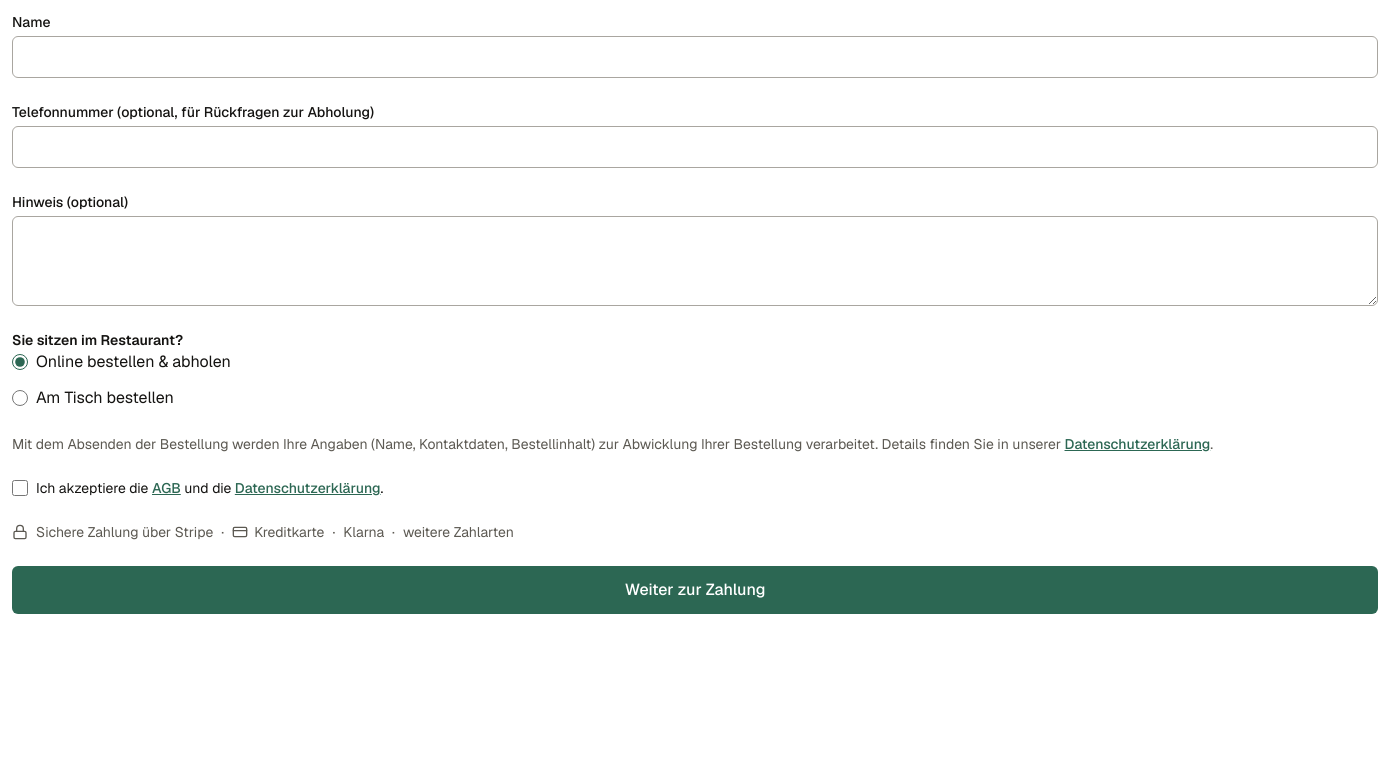
CheckoutForm keeps user input after a validation error › keeps name, phone and note when the server rejects the missing AGB consent
Step 1. Type "Erika Muster" into the field labelled "Name" → (695, 57), box [12,36,1378,78]
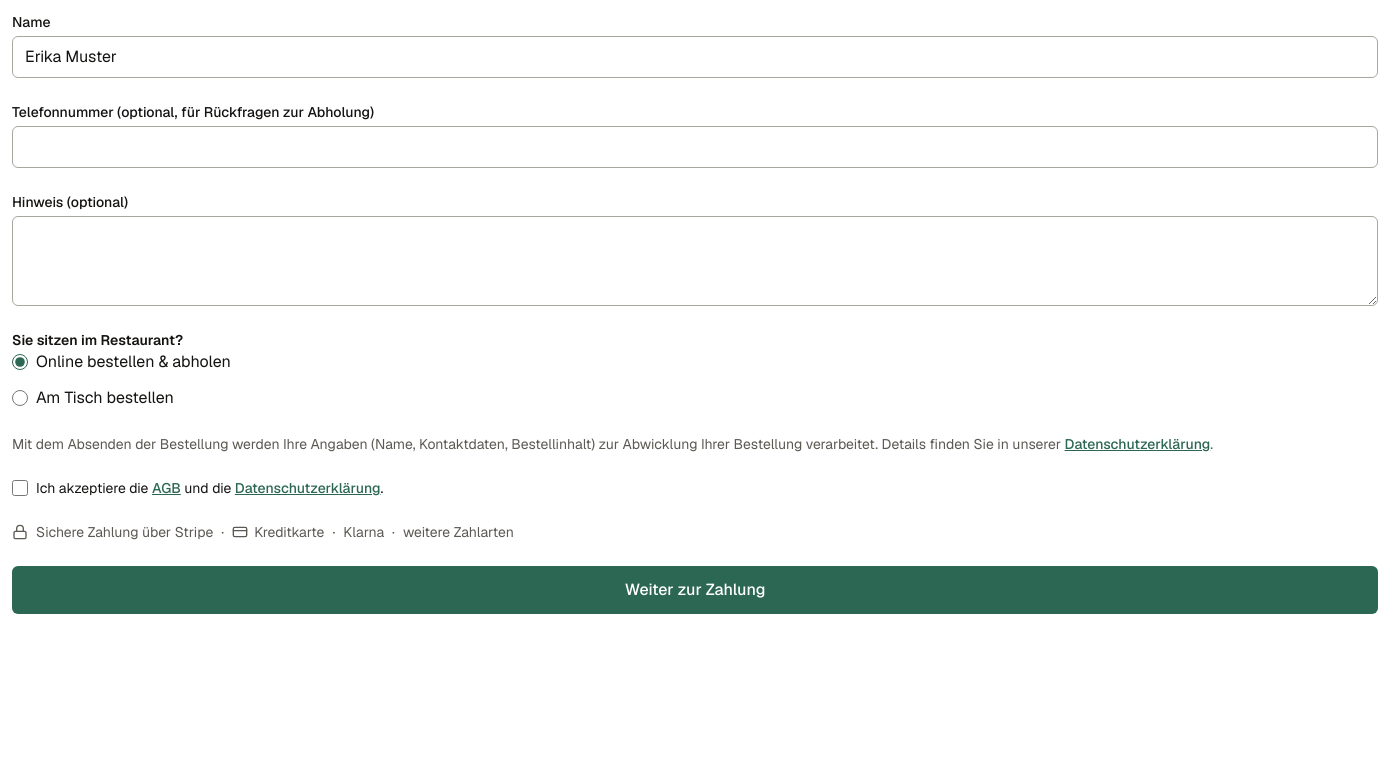
Step 2. Type "0171 1234567" into the field labelled "Telefonnummer (optional, für Rückfragen zur Abholung)" → (695, 147), box [12,126,1378,168]
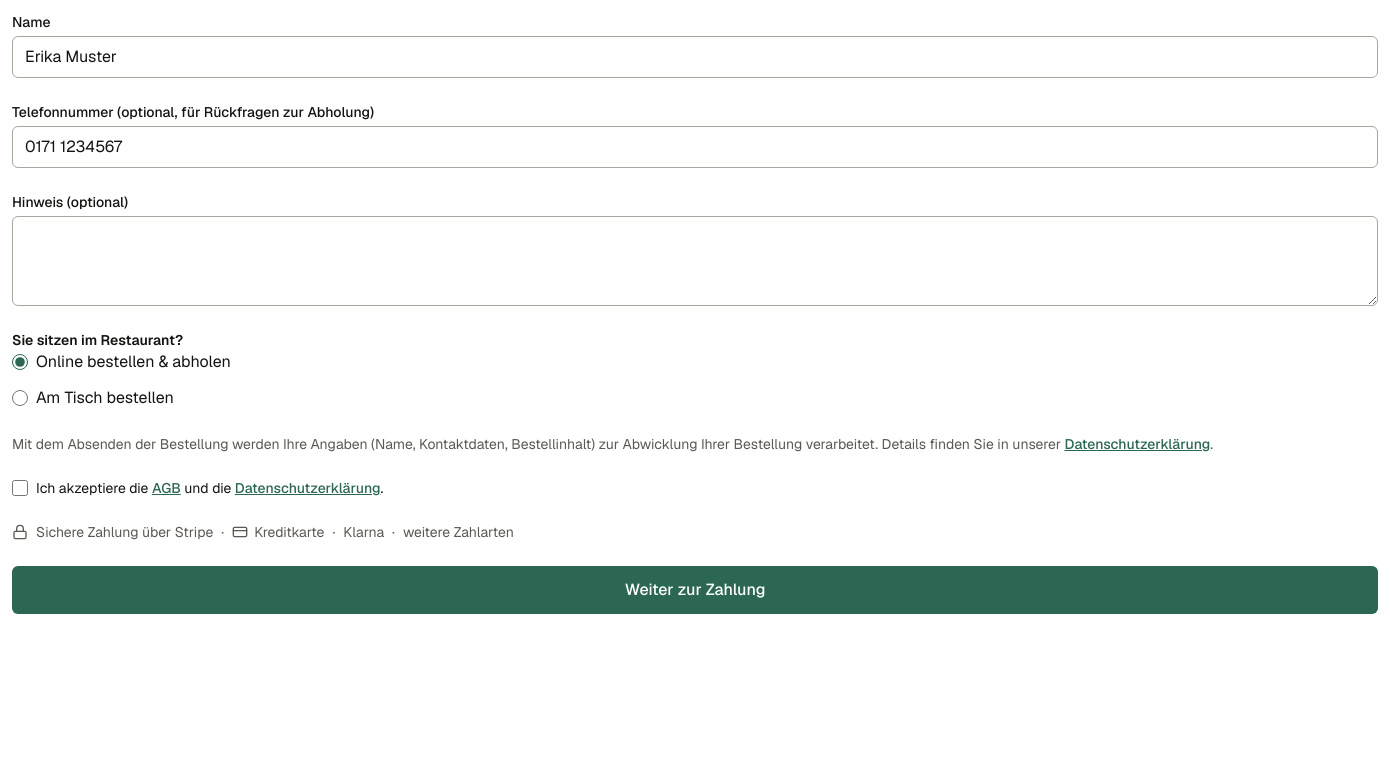
Step 3. Type "Ohne Zwiebeln" into the text box labelled "Hinweis (optional)" → (695, 261), box [12,216,1378,306]
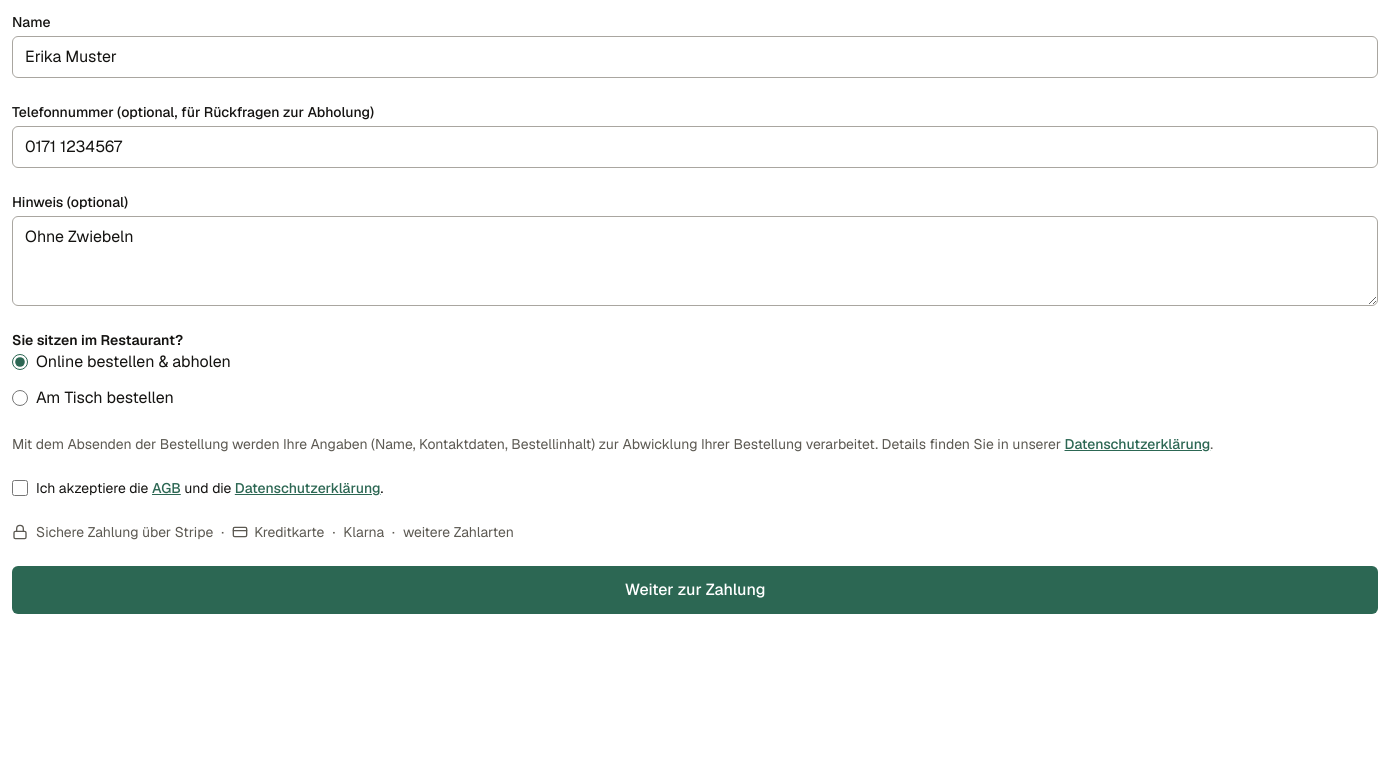
Step 4. Click the button "Weiter zur Zahlung" → (695, 590), box [12,566,1378,614]
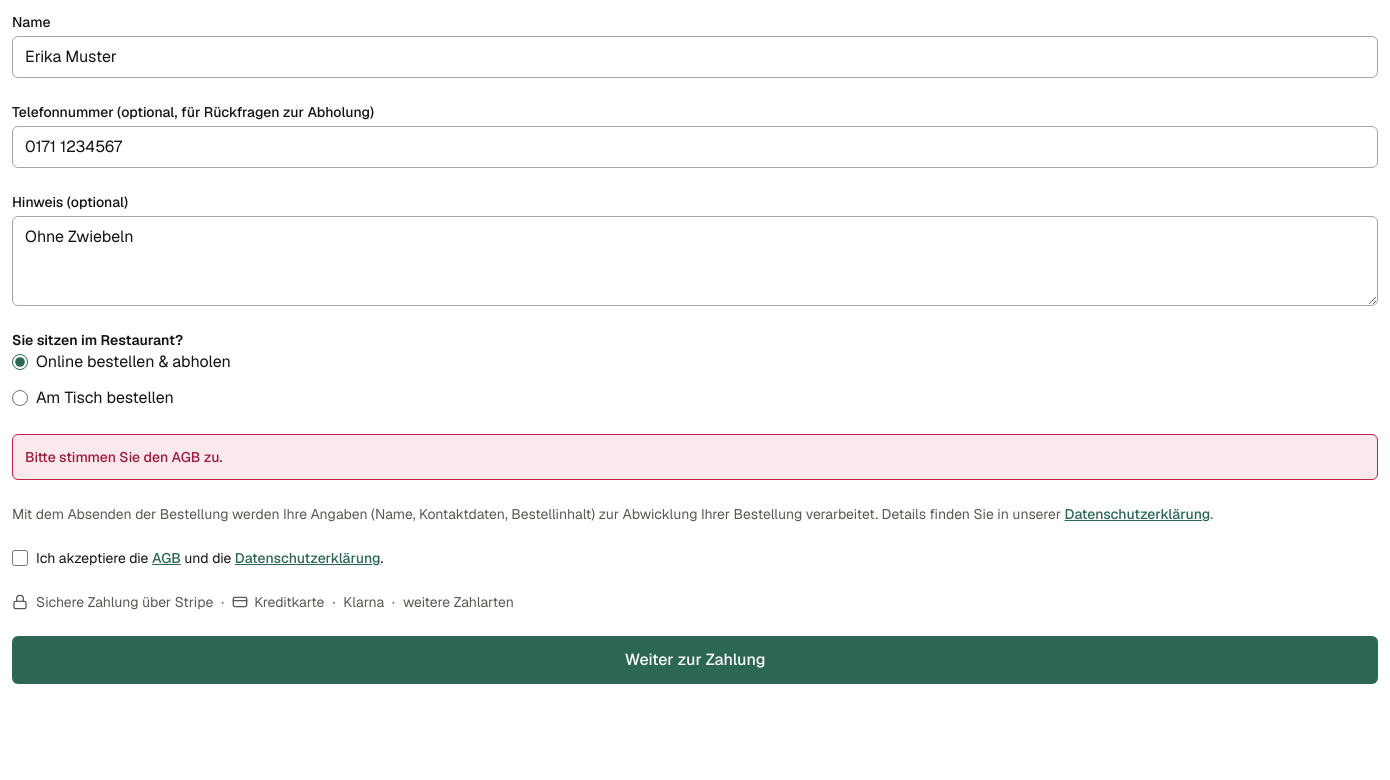
Check: the radio button labelled "Online bestellen & abholen" is checked, box [12,354,28,370]
Check: the message shows "AGB", box [25,448,222,466]
